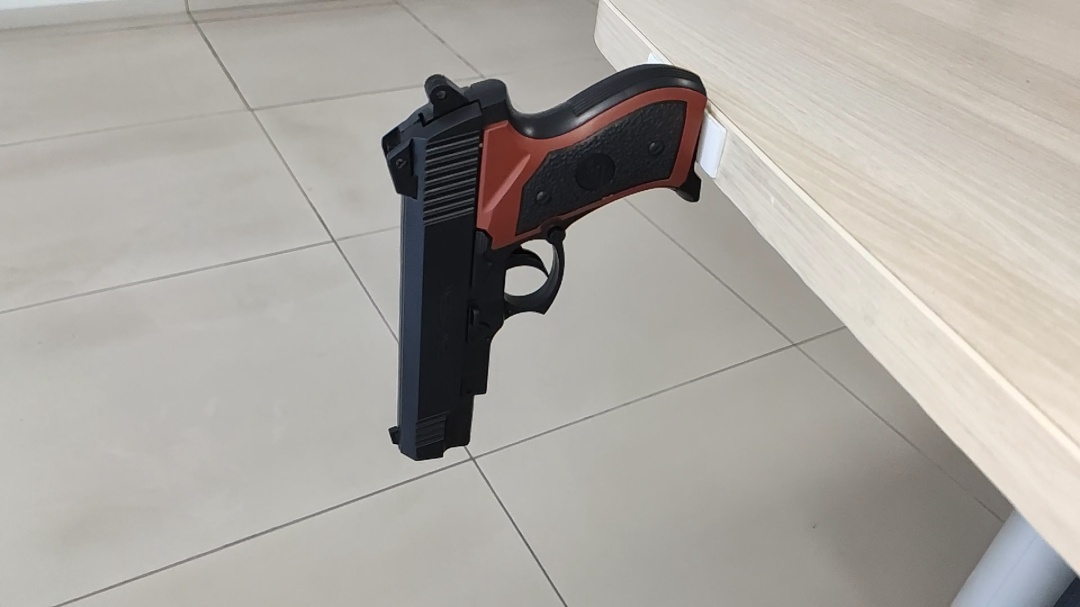gun: (614, 224, 758, 313)
